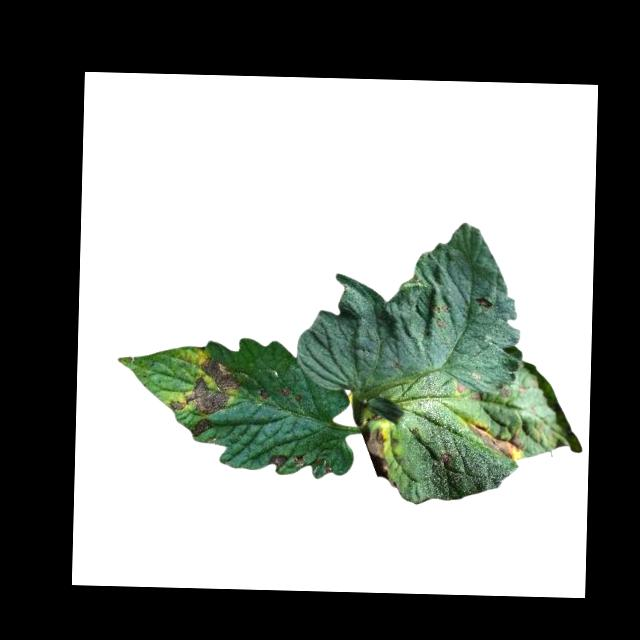Early_blight: (166, 353, 239, 414), (465, 425, 524, 462), (361, 425, 390, 479), (264, 453, 288, 468), (474, 296, 492, 310), (453, 381, 465, 395), (258, 389, 269, 402), (281, 389, 289, 401)
